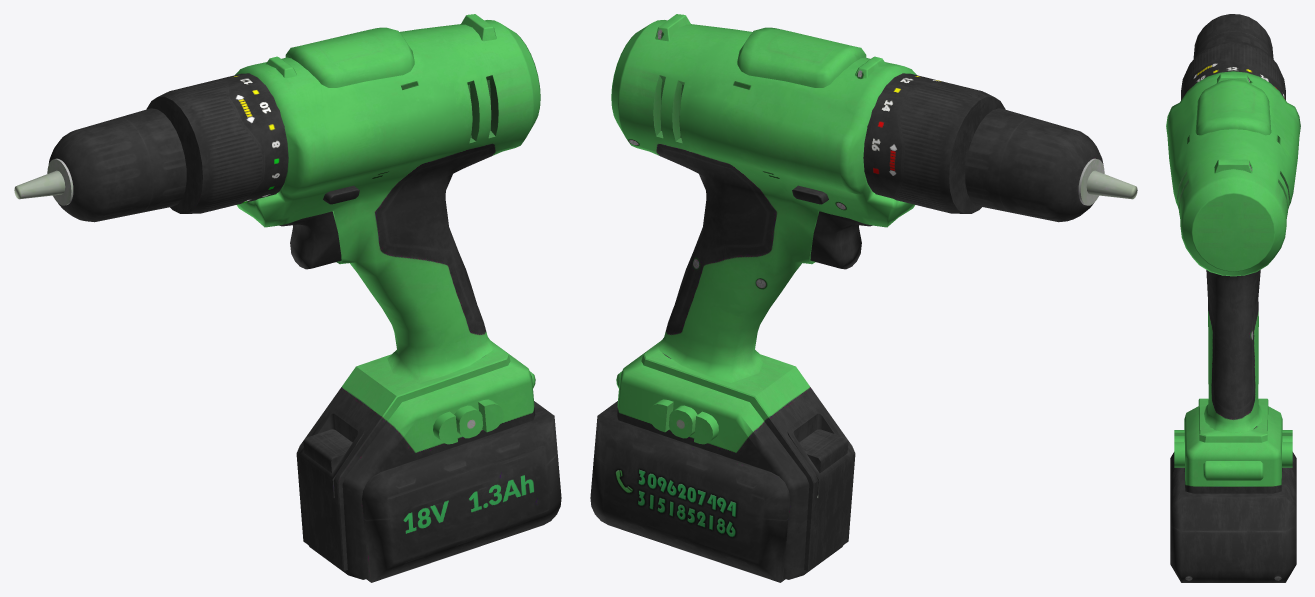
Rendered from saq.fbx.
3 views of the same model, side by side, from view 1: azimuth 30°, elevation 25°; view 2: azimuth 150°, elevation 25°; view 3: azimuth 270°, elevation 25° (orthographic). The views are drawn at different scales.
Parts seen in each view (by area): view 1: polySurface1; view 2: polySurface1; view 3: polySurface1.
Boxes of the visible parts, x1,y1,x2,y2 form: polySurface1: (14, 14, 561, 582); polySurface1: (590, 14, 1137, 582); polySurface1: (1166, 14, 1300, 582).
Size of the model in its own units: 1690 by 1633 by 463.
1 material, 1 textured.
